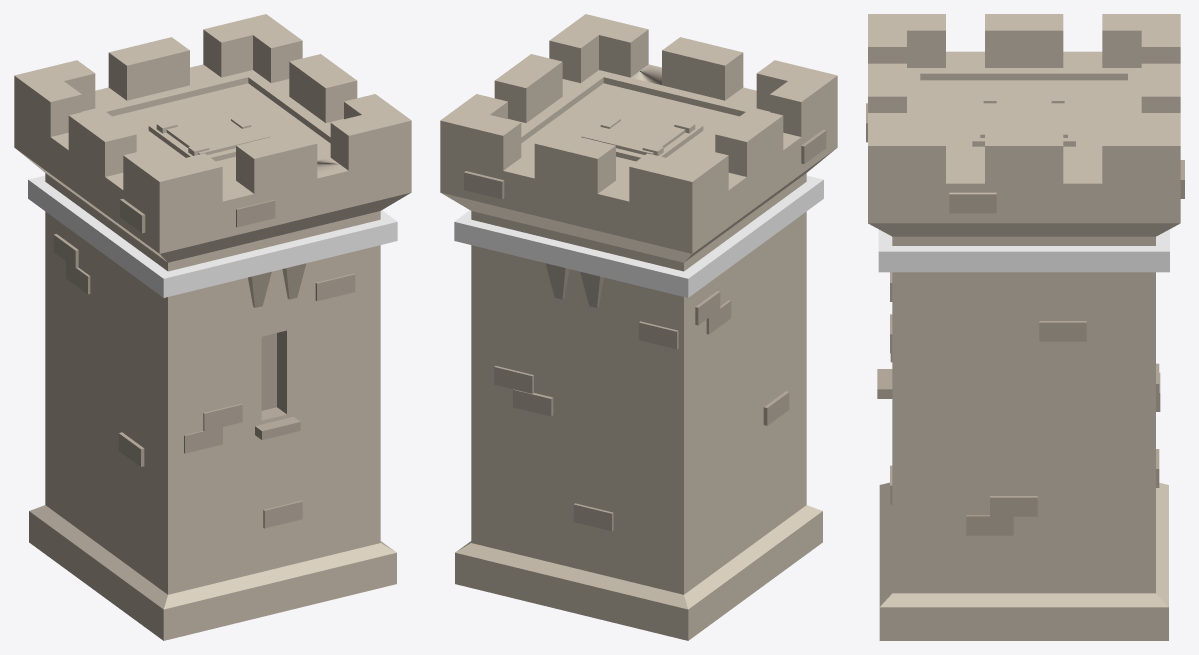
Rendered from Tower.DAE.
3 views of the same model, side by side, from view 1: azimuth 30°, elevation 25°; view 2: azimuth 150°, elevation 25°; view 3: azimuth 270°, elevation 25° (orthographic). The views are drawn at different scales.
Visible parts, largest first — view 1: Twoer; view 2: Twoer; view 3: Twoer.
Boxes of the visible parts, x1,y1,x2,y2 form: Twoer: (14,14,411,640); Twoer: (440,14,837,640); Twoer: (866,14,1184,640).
Size of the model in its own units: 1.34 by 2.31 by 1.34.
